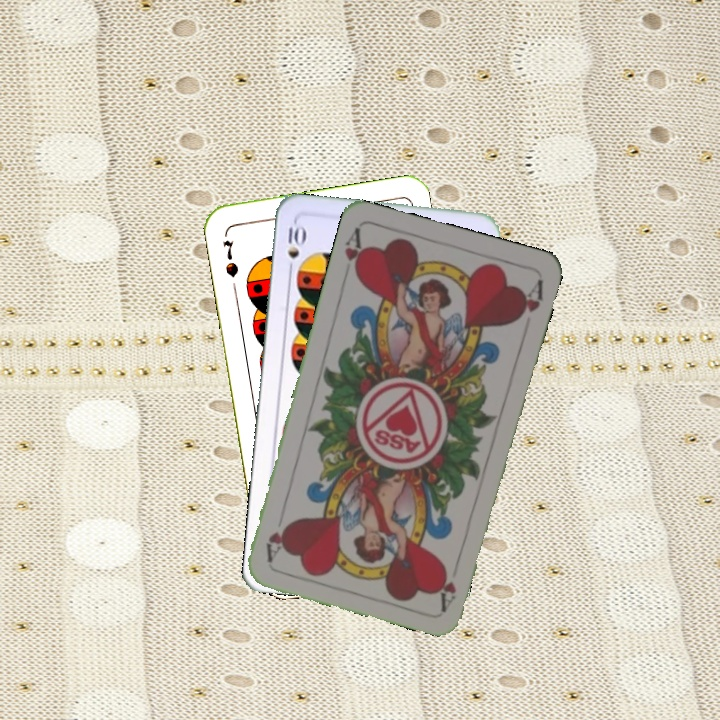HA: (340, 224, 368, 282), (436, 553, 463, 612)
S10: (284, 218, 306, 277)
S7: (219, 236, 241, 280)
